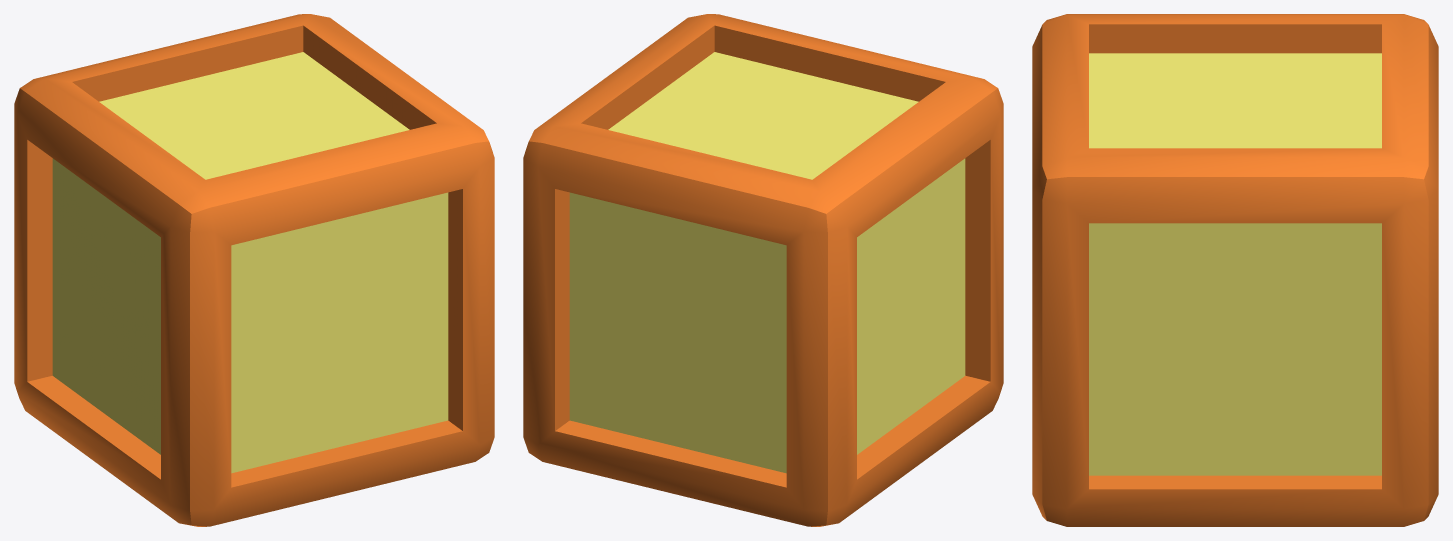
The model's file is Obstacle 15 V3.fbx.
The picture shows the model from 3 angles, left to right: view 1: azimuth 30°, elevation 25°; view 2: azimuth 150°, elevation 25°; view 3: azimuth 270°, elevation 25°; orthographic projection. The views are drawn at different scales.
Parts seen in each view (by area): view 1: O15 Part 1; view 2: O15 Part 1; view 3: O15 Part 1.
Part boxes in pixels (<box>): O15 Part 1: <box>14,14,494,526</box>; O15 Part 1: <box>523,14,1003,526</box>; O15 Part 1: <box>1032,14,1438,526</box>.
Bounding box in the file's own units: 62.51 × 62.51 × 62.51.
1 material, 1 textured.
